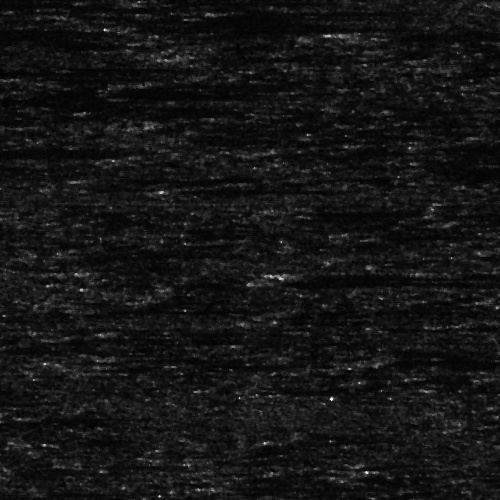object: (293, 26, 418, 39), (341, 352, 424, 367), (238, 207, 321, 218), (199, 480, 252, 491), (406, 63, 489, 70), (405, 267, 468, 276), (253, 277, 284, 286), (166, 184, 219, 189), (107, 0, 170, 4), (177, 52, 208, 59), (79, 302, 90, 317), (264, 270, 285, 277)
shadow: (356, 26, 500, 39), (85, 302, 208, 317), (383, 352, 500, 367), (269, 277, 464, 286), (275, 270, 500, 277), (0, 143, 102, 158), (226, 480, 365, 491), (193, 184, 388, 189), (279, 207, 346, 218), (437, 267, 500, 276), (139, 0, 274, 4), (193, 52, 261, 59), (447, 63, 500, 70), (421, 145, 500, 146)
